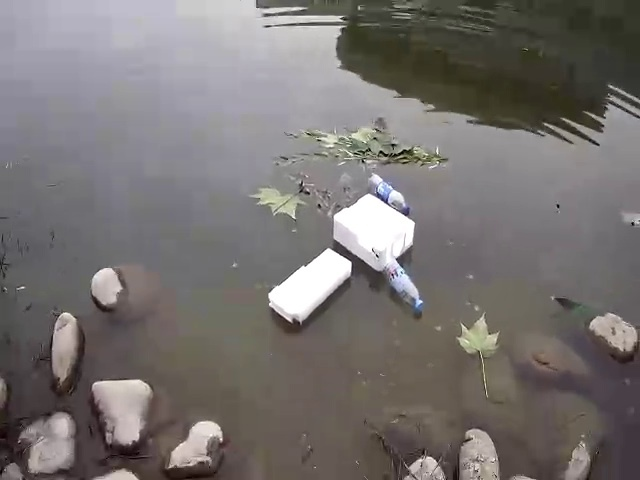bottle: (379, 257, 429, 312), (365, 171, 413, 213)
leaf: (278, 119, 449, 174), (453, 311, 502, 364), (251, 181, 303, 224)
paomo: (265, 246, 352, 329), (323, 192, 419, 264)
